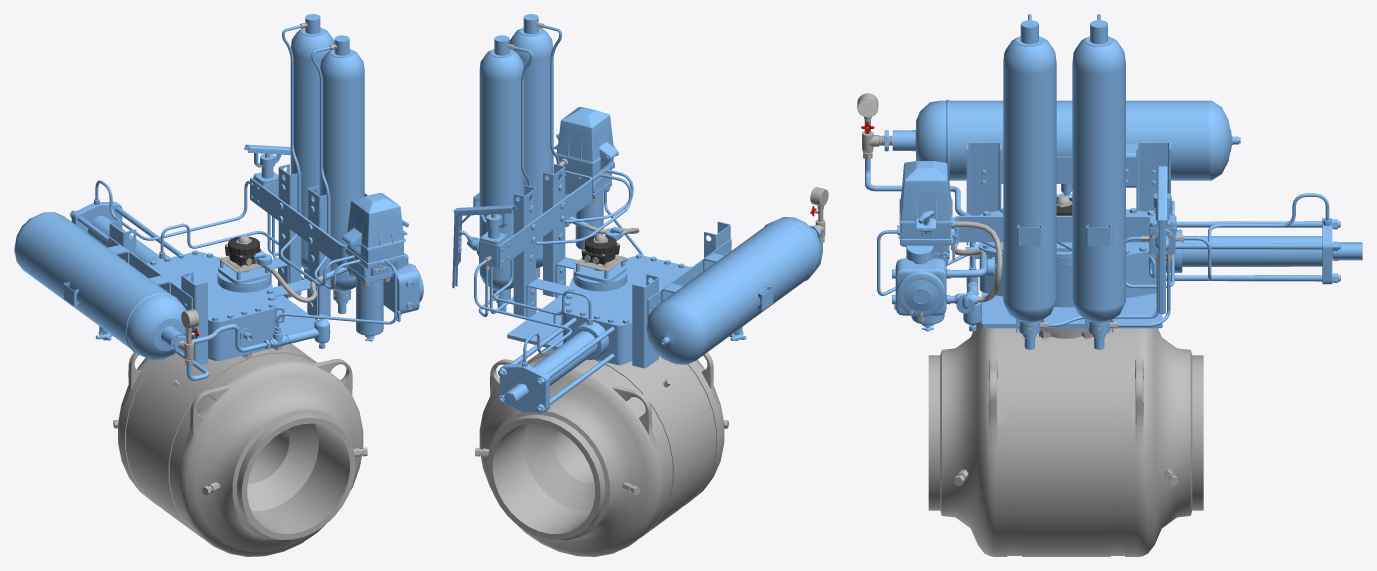
The model's file is armatura.glb.
The picture shows the model from 3 angles, left to right: view 1: azimuth 30°, elevation 25°; view 2: azimuth 150°, elevation 25°; view 3: azimuth 270°, elevation 25°; orthographic projection. The views are drawn at different scales.
Parts seen in each view (by area): view 1: 0; view 2: 0; view 3: 0.
Boxes of the visible parts, left/top/right/bottom form: 0: left=14, top=14, right=423, bottom=556; 0: left=452, top=14, right=828, bottom=556; 0: left=857, top=14, right=1362, bottom=556.
Size of the model in its own units: 1.33 by 2.13 by 1.71.
